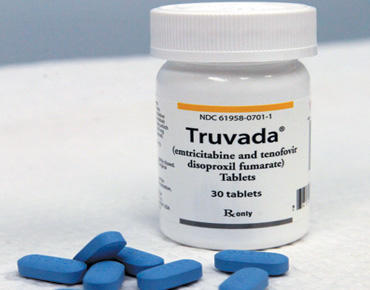Medicine: (145, 2, 329, 252)
